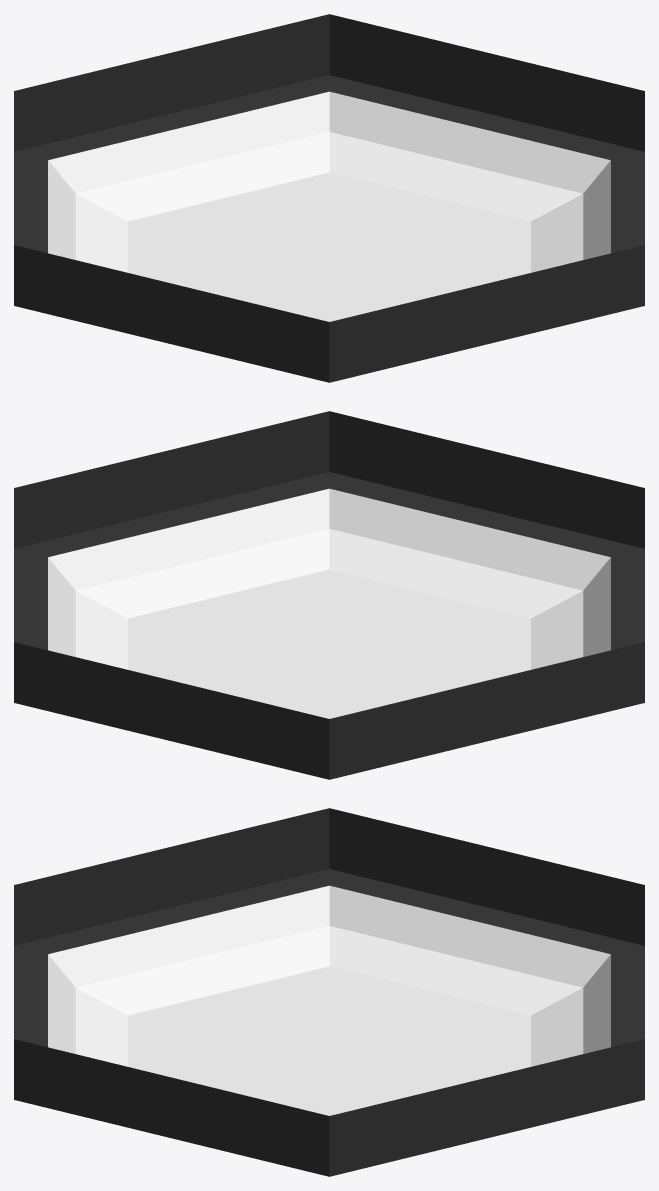
File: Light_Ceiling.fbx
3 renders of one model, top to bottom at view 1: azimuth 30°, elevation 25°; view 2: azimuth 150°, elevation 25°; view 3: azimuth 270°, elevation 25°, orthographic.
Parts seen in each view (by area): view 1: Ceiling_Light; view 2: Ceiling_Light; view 3: Ceiling_Light.
Boxes of the visible parts, x1=… form: Ceiling_Light: x1=14, y1=14, x2=644, y2=382; Ceiling_Light: x1=14, y1=411, x2=644, y2=779; Ceiling_Light: x1=14, y1=808, x2=644, y2=1176.
Bounding box in the file's own units: 123 × 19.15 × 107.
